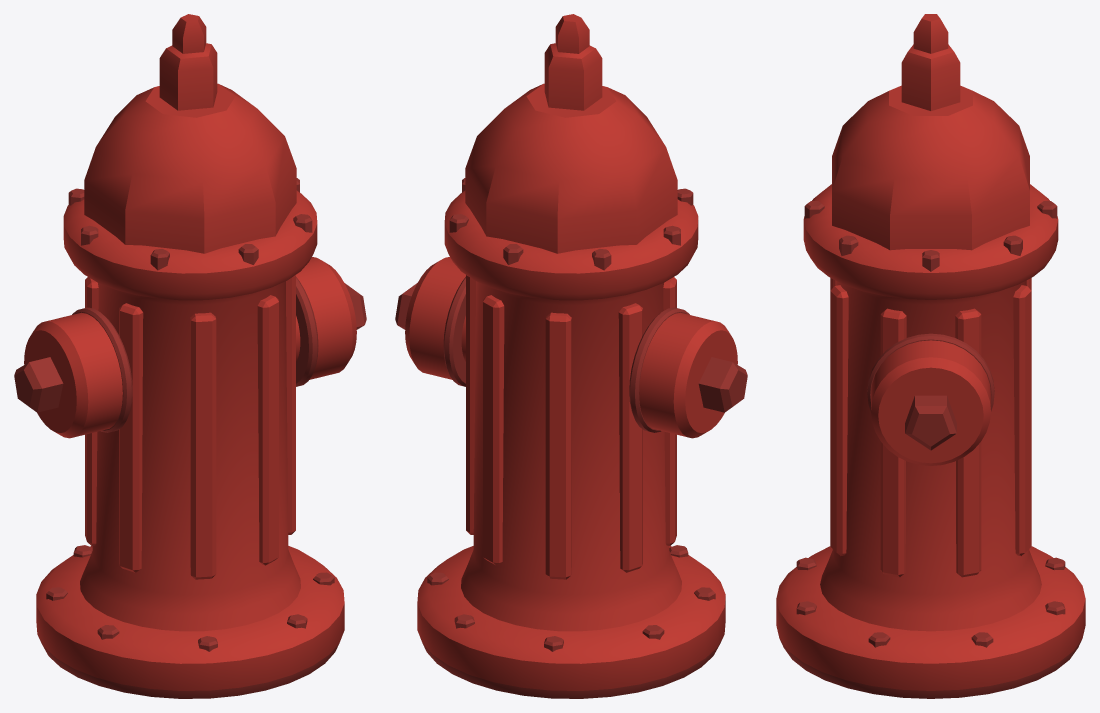
Rendered from FireHydrant.fbx.
3 views of the same model, side by side, from view 1: azimuth 30°, elevation 25°; view 2: azimuth 150°, elevation 25°; view 3: azimuth 270°, elevation 25° (orthographic).
Visible parts, largest first — view 1: FireHydrant_Mesh; view 2: FireHydrant_Mesh; view 3: FireHydrant_Mesh.
Boxes of the visible parts, bbox=[...] form: FireHydrant_Mesh: bbox=[14, 14, 366, 698]; FireHydrant_Mesh: bbox=[395, 14, 747, 698]; FireHydrant_Mesh: bbox=[776, 14, 1085, 698].
Size of the model in its own units: 0.424 by 0.75 by 0.34.
